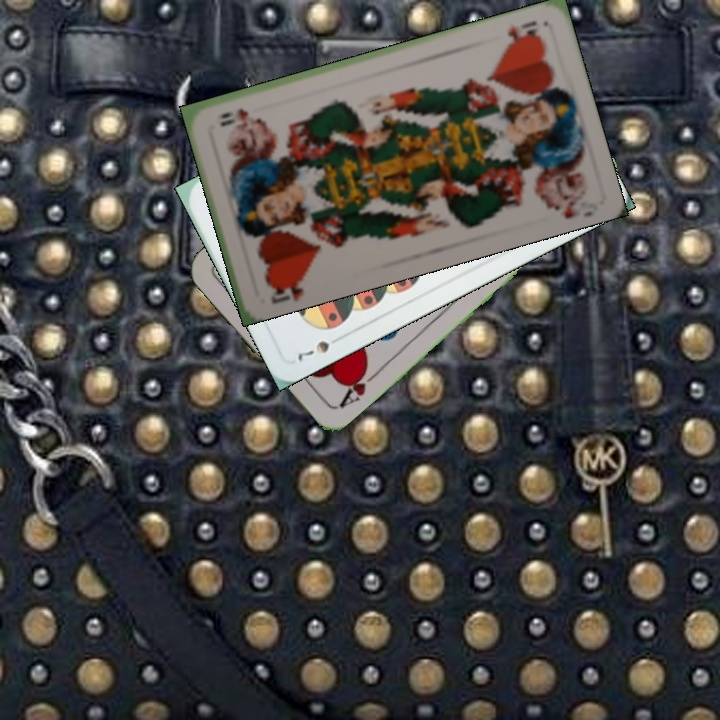HA: (335, 362, 382, 411)
HO: (263, 271, 309, 307), (504, 16, 543, 43)
S7: (293, 336, 332, 364)
